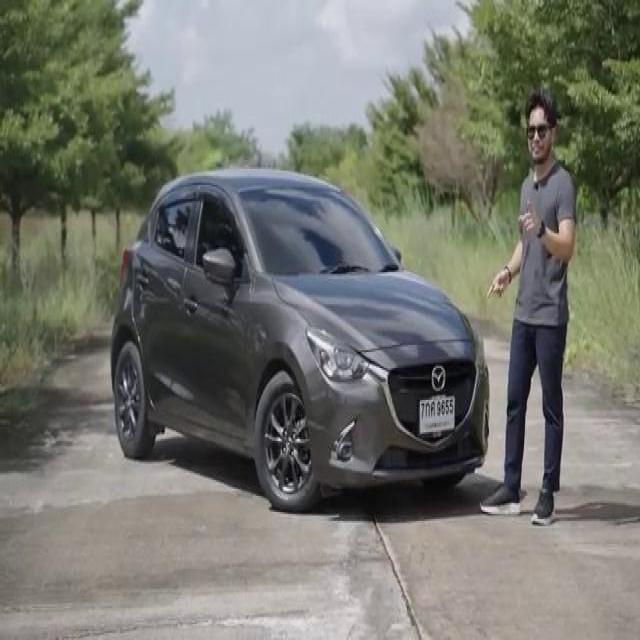Hatchback: (110, 169, 488, 510)
